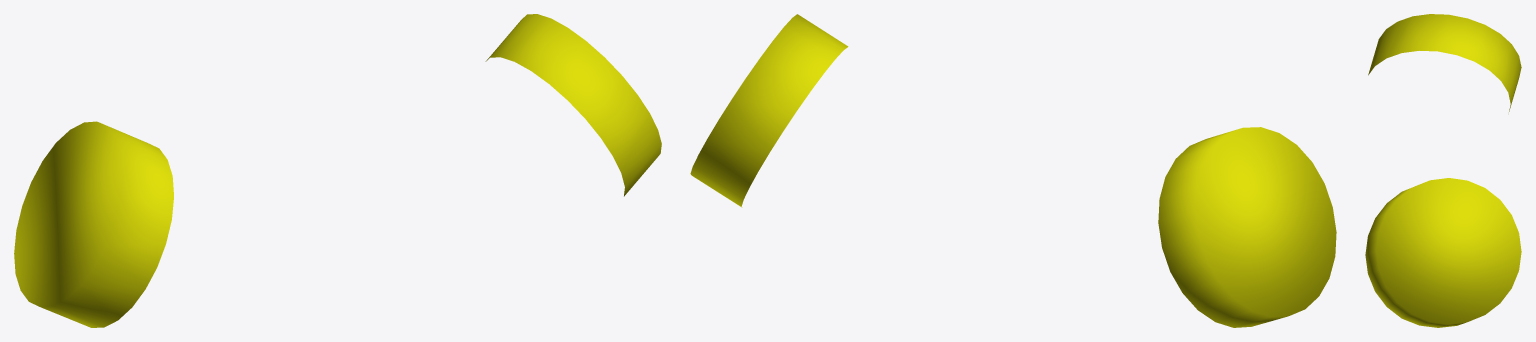
File: Cap1_134.glb
3 renders of one model, left to right at view 1: azimuth 30°, elevation 25°; view 2: azimuth 150°, elevation 25°; view 3: azimuth 270°, elevation 25°, orthographic. The views are drawn at different scales.
Visible parts, largest first — view 1: Mesh_0.028; view 2: Mesh_0.028; view 3: Mesh_0.028.
Part boxes in pixels (<box>): Mesh_0.028: <box>14,14,661,327</box>; Mesh_0.028: <box>690,14,1336,327</box>; Mesh_0.028: <box>1365,14,1521,327</box>.
Bounding box in the file's own units: 56.55 × 16.27 × 16.77.
